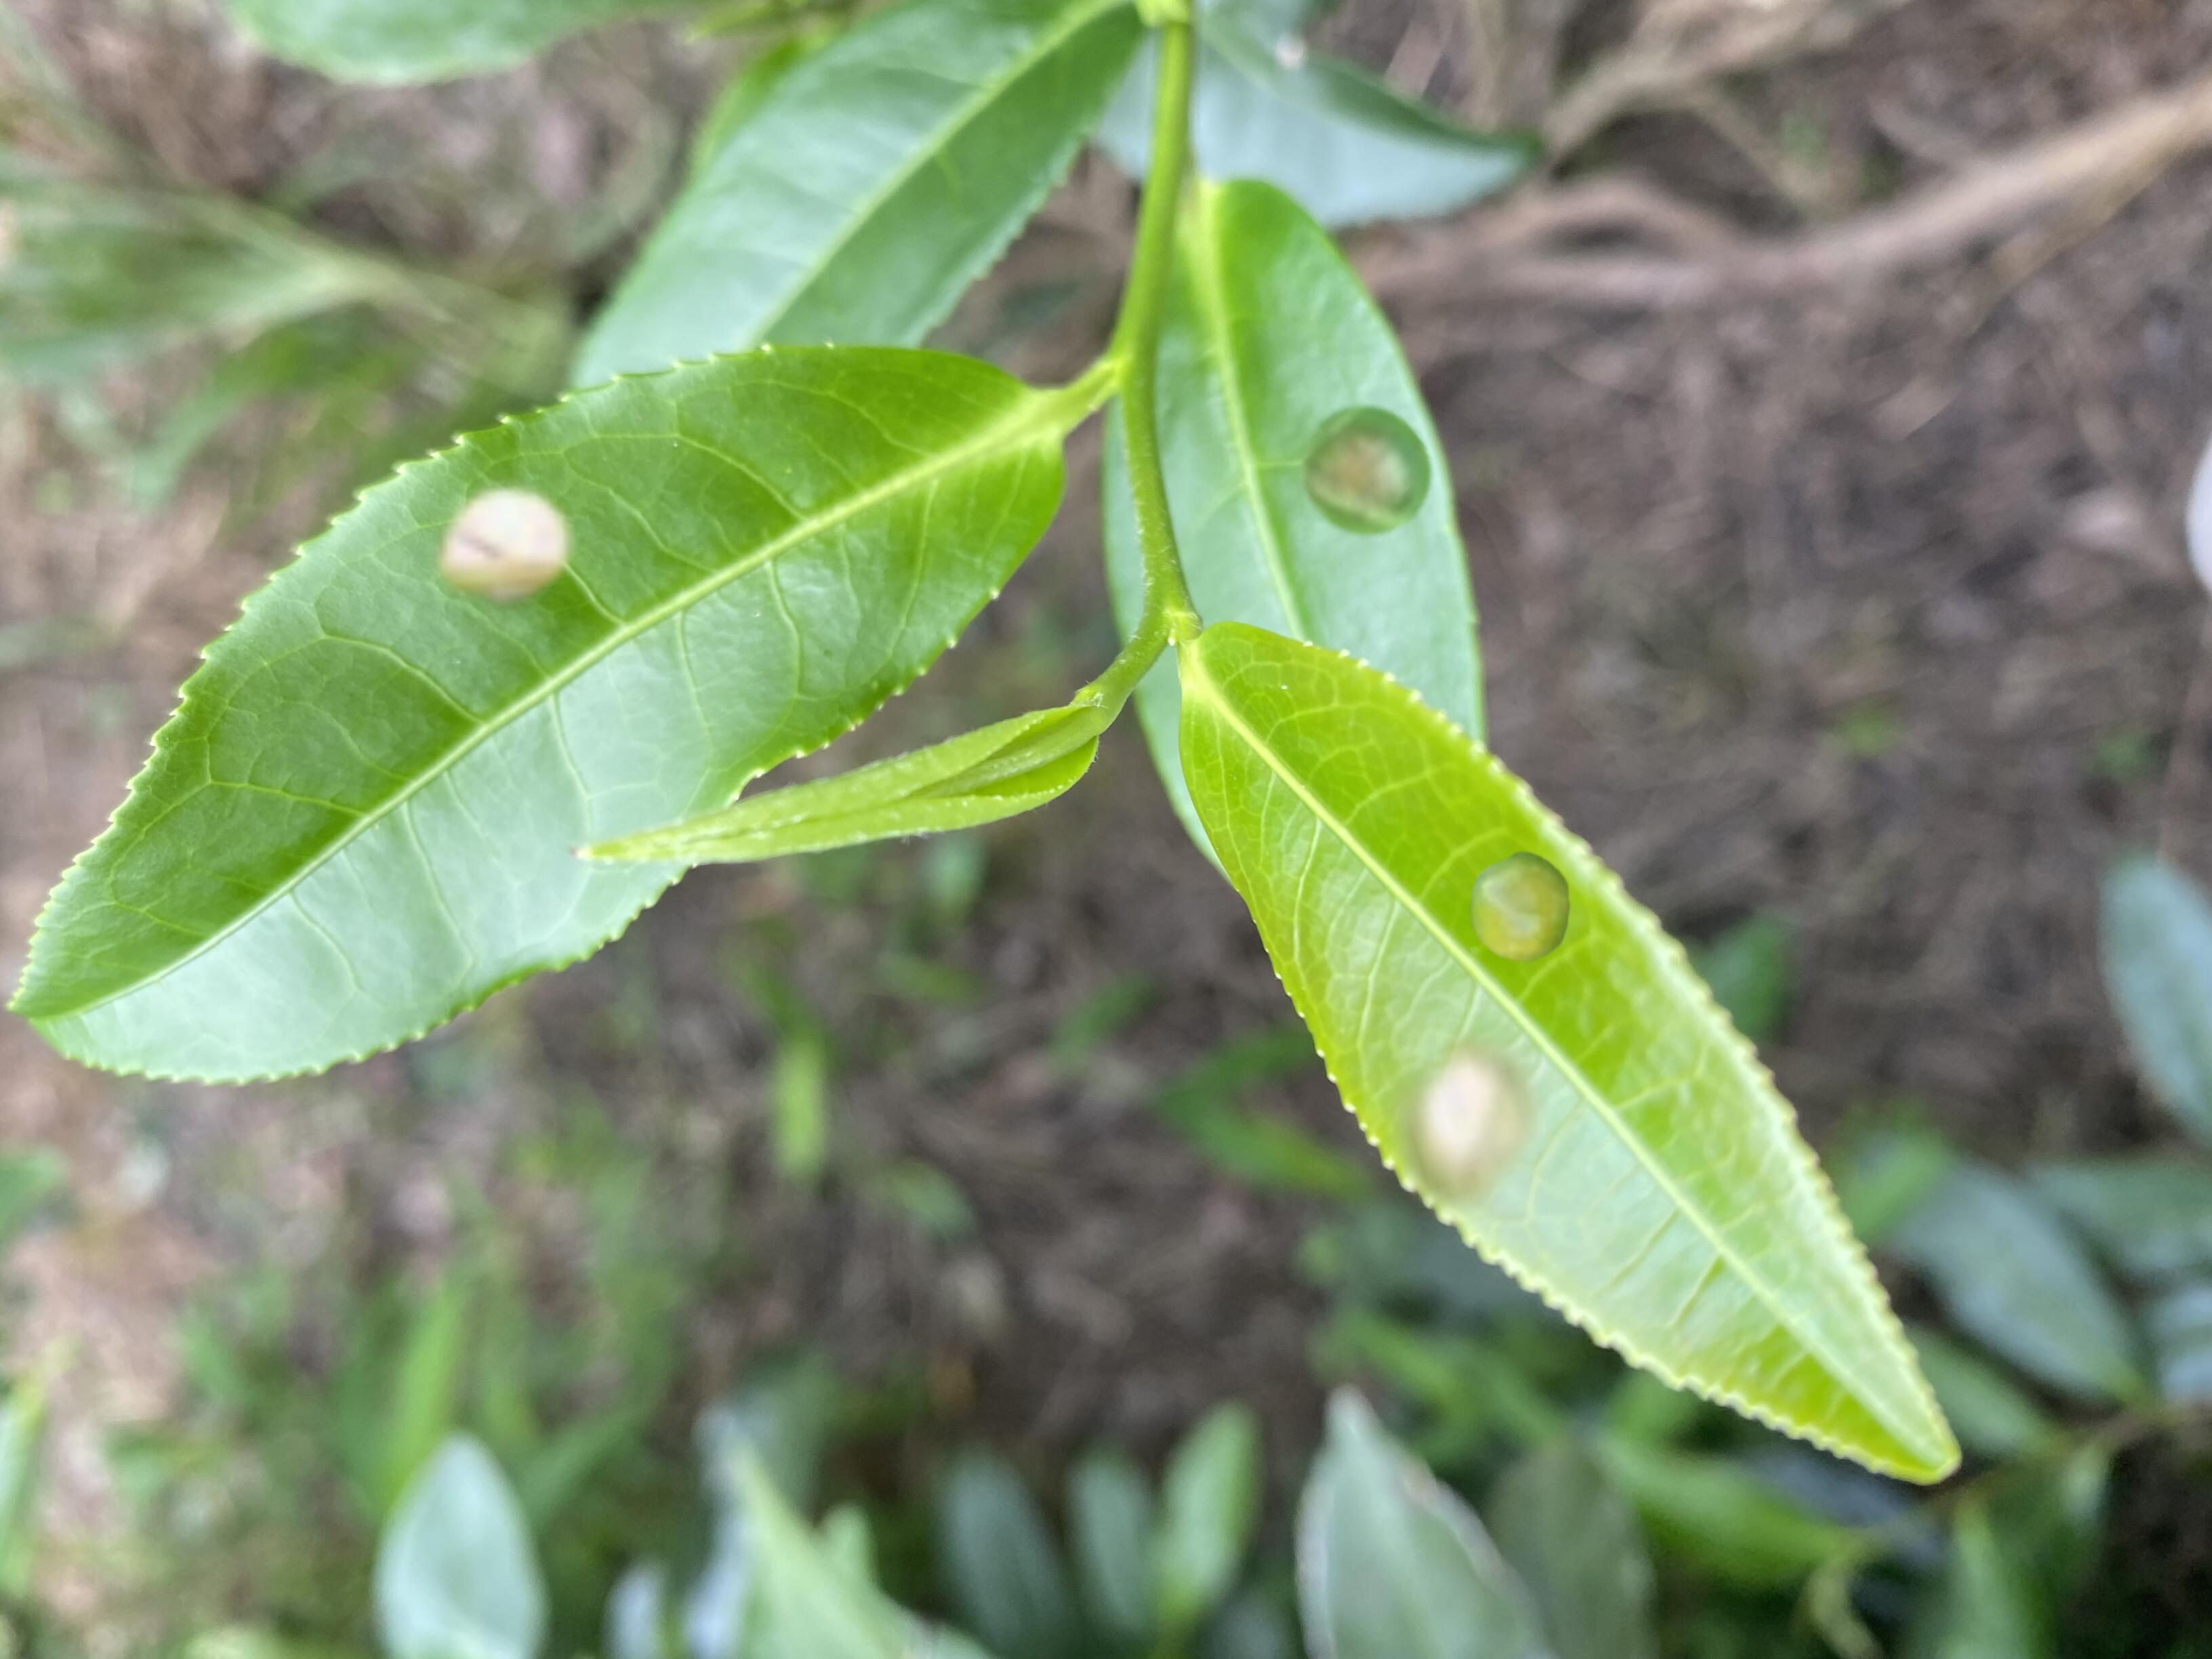chabing_high: (1176, 620, 1961, 1485)
chabing_low: (9, 347, 1073, 1086), (1097, 176, 1486, 873)
